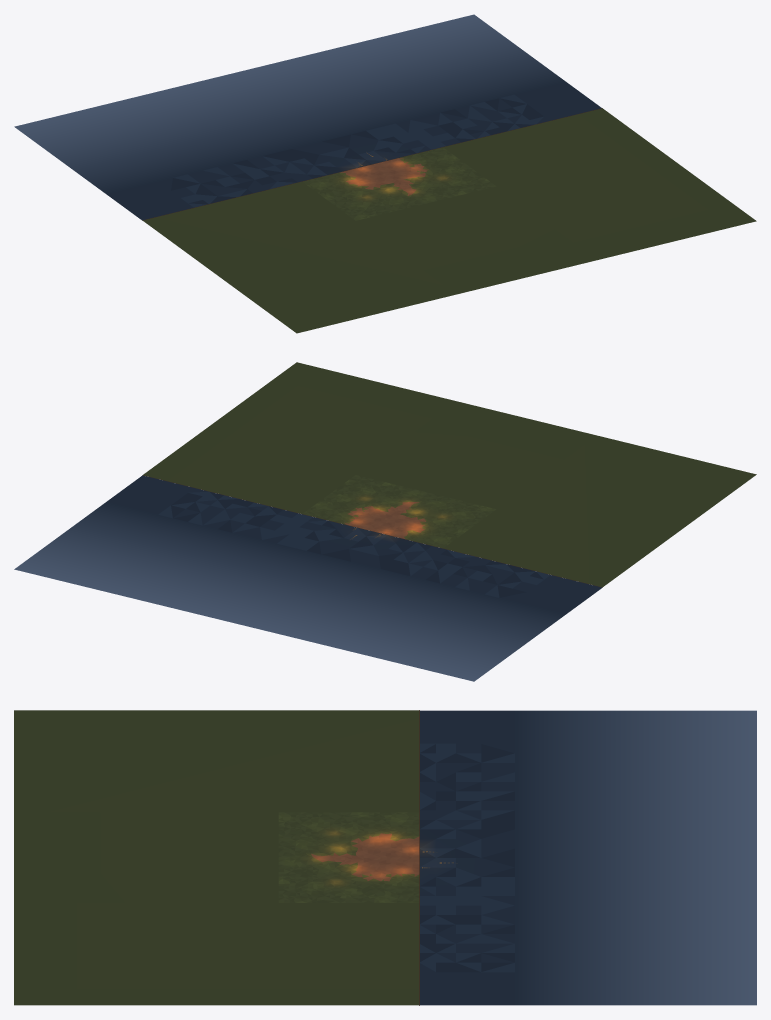
File: ground.glb
3 renders of one model, top to bottom at view 1: azimuth 30°, elevation 25°; view 2: azimuth 150°, elevation 25°; view 3: azimuth 270°, elevation 25°, orthographic. The views are drawn at different scales.
Parts seen in each view (by area): view 1: lit; view 2: lit; view 3: lit.
Boxes of the visible parts, x1,y1,x2,y2 form: lit: [14, 14, 756, 333]; lit: [14, 362, 756, 681]; lit: [14, 710, 756, 1005].
Size of the model in its own units: 124 by 0.14 by 132.
